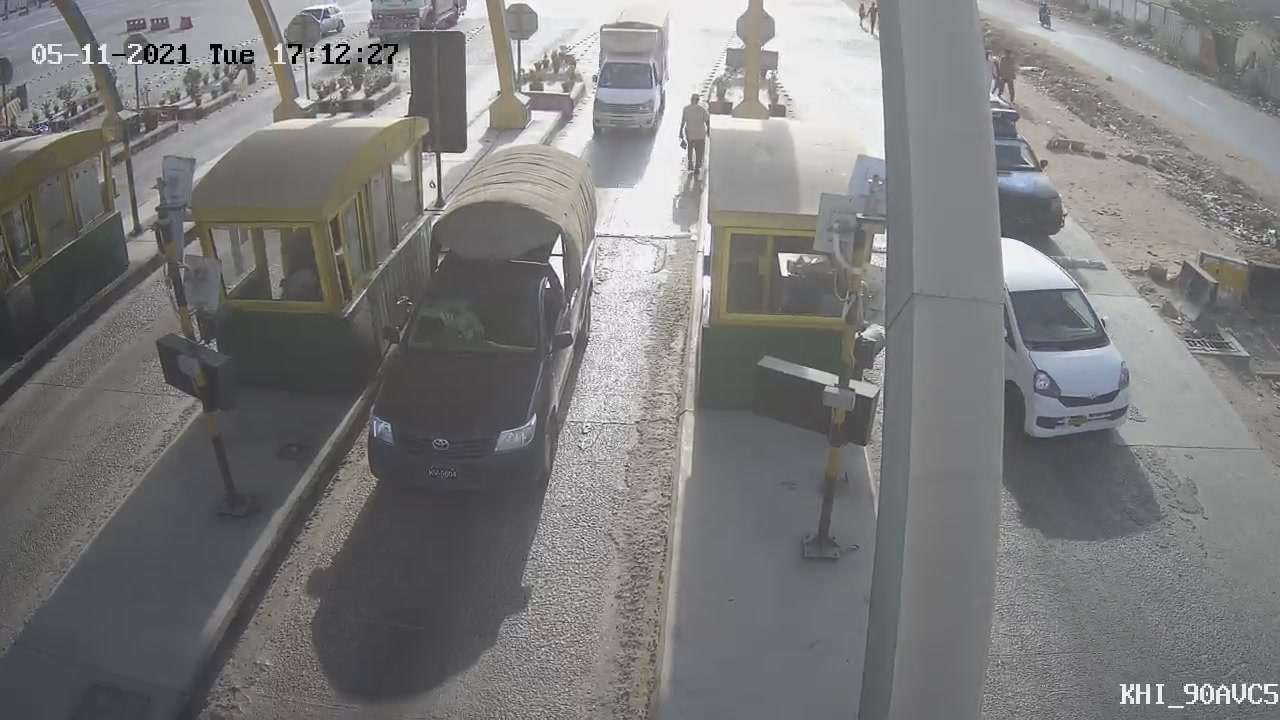F1: (373, 154, 606, 508)
F2: (581, 9, 676, 147)
